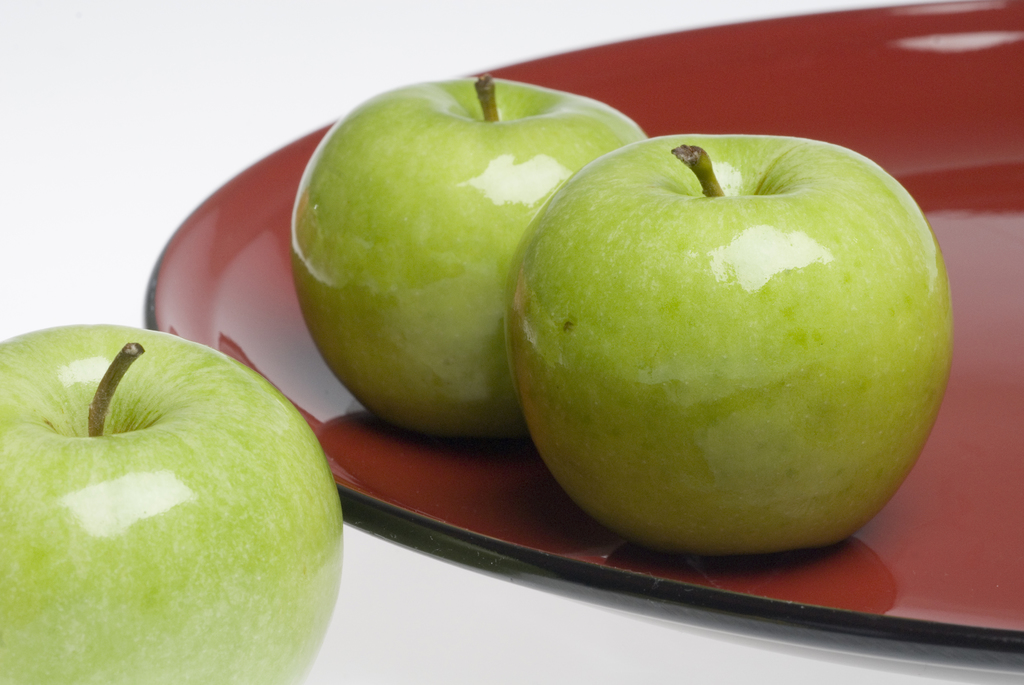Apple: (493, 117, 963, 561), (288, 74, 650, 440), (0, 315, 347, 684)
